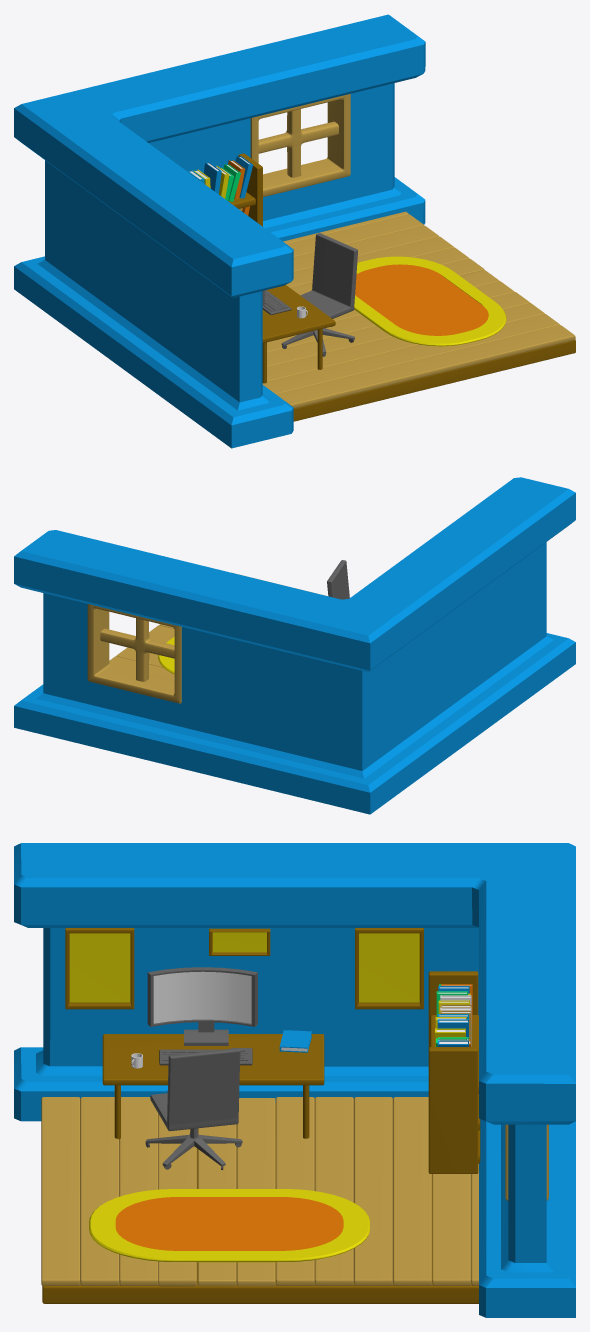
The picture shows the model from 3 angles, top to bottom: view 1: azimuth 30°, elevation 25°; view 2: azimuth 150°, elevation 25°; view 3: azimuth 270°, elevation 25°; orthographic projection. The views are drawn at different scales.
Parts seen in each view (by area): view 1: pasted__pCube1, pPlane1, Floor, pCube2, pasted__Base, pCube114, pasted__Floor1, Floor3, pCube12, Floor4, pasted__pCube3, pasted__Floor11 (+5 smaller); view 2: pasted__pCube1, pCube2, pasted__pCube3, pCube114, Floor9; view 3: pasted__pCube1, pPlane1, pasted__Base, pasted__pCube10, Floor, pCube12, pCube114, pasted__Floor10, polySurface10, Floor9, pasted__Floor1, pCube15 (+14 smaller).
Part boxes in pixels (x1,y1,x2,y2): pasted__pCube1: (14, 14, 425, 448); pPlane1: (354, 256, 506, 346); Floor: (276, 325, 575, 408); pCube2: (250, 94, 350, 196); pasted__Base: (293, 340, 575, 421); pCube114: (281, 233, 357, 353); pasted__Floor1: (262, 314, 559, 394); Floor3: (267, 303, 544, 381); pCube12: (262, 285, 335, 342); Floor4: (267, 292, 529, 366); pasted__pCube3: (258, 109, 338, 177); pasted__Floor11: (287, 214, 423, 256); pasted__pCube1: (14, 477, 575, 814); pCube2: (87, 604, 181, 703); pasted__pCube3: (100, 618, 174, 681); pCube114: (327, 560, 349, 599); Floor9: (109, 656, 174, 680); pasted__pCube1: (14, 843, 575, 1317); pPlane1: (89, 1189, 369, 1262); pasted__Base: (42, 1103, 478, 1303); pasted__pCube10: (428, 971, 478, 1173); Floor: (41, 1097, 80, 1285); pCube12: (102, 1034, 324, 1085); pCube114: (145, 1048, 242, 1166); pasted__Floor10: (393, 1097, 431, 1285); polySurface10: (147, 967, 257, 1045); Floor9: (354, 1097, 392, 1285); pasted__Floor1: (80, 1097, 119, 1285); pCube15: (65, 928, 134, 1009).
Size of the model in its own units: 28.87 by 13.63 by 28.88.
